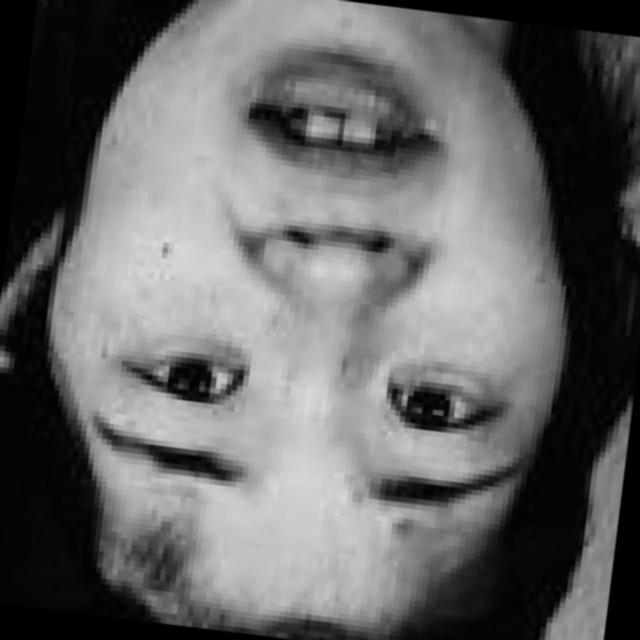fear: (39, 0, 586, 604)
